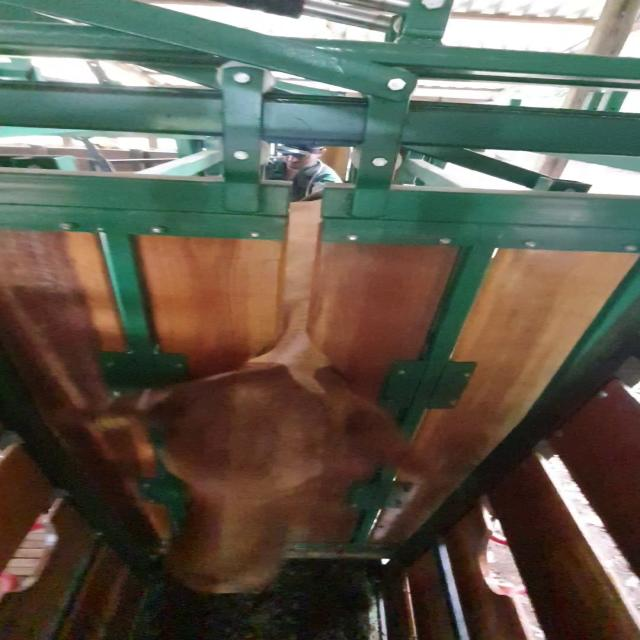cowFace: (162, 374, 336, 595)
